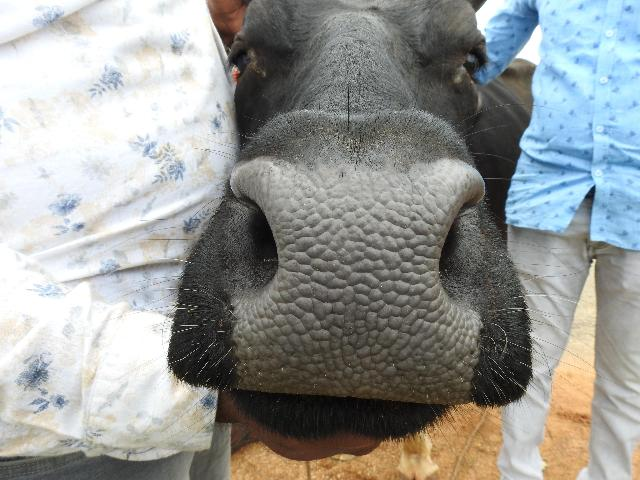Muzzle: (237, 152, 461, 396)
